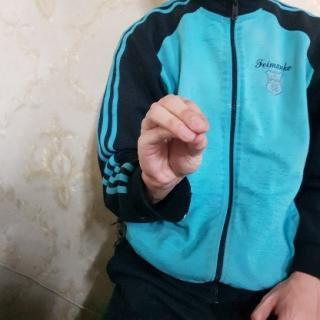HA: (137, 89, 210, 189)
